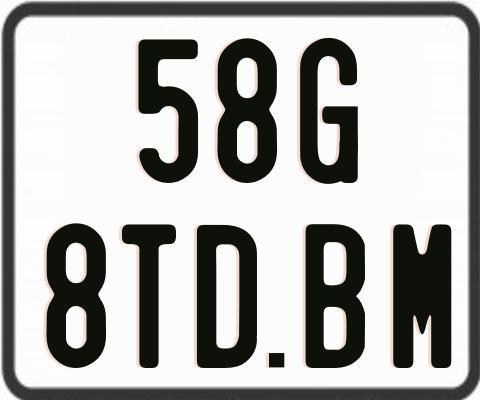5: (137, 38, 197, 183)
8: (216, 35, 280, 185), (45, 220, 105, 365)
B: (306, 222, 367, 369)
D: (195, 224, 255, 370)
G: (299, 36, 357, 184)
M: (391, 224, 452, 370)
T: (119, 224, 175, 373)
